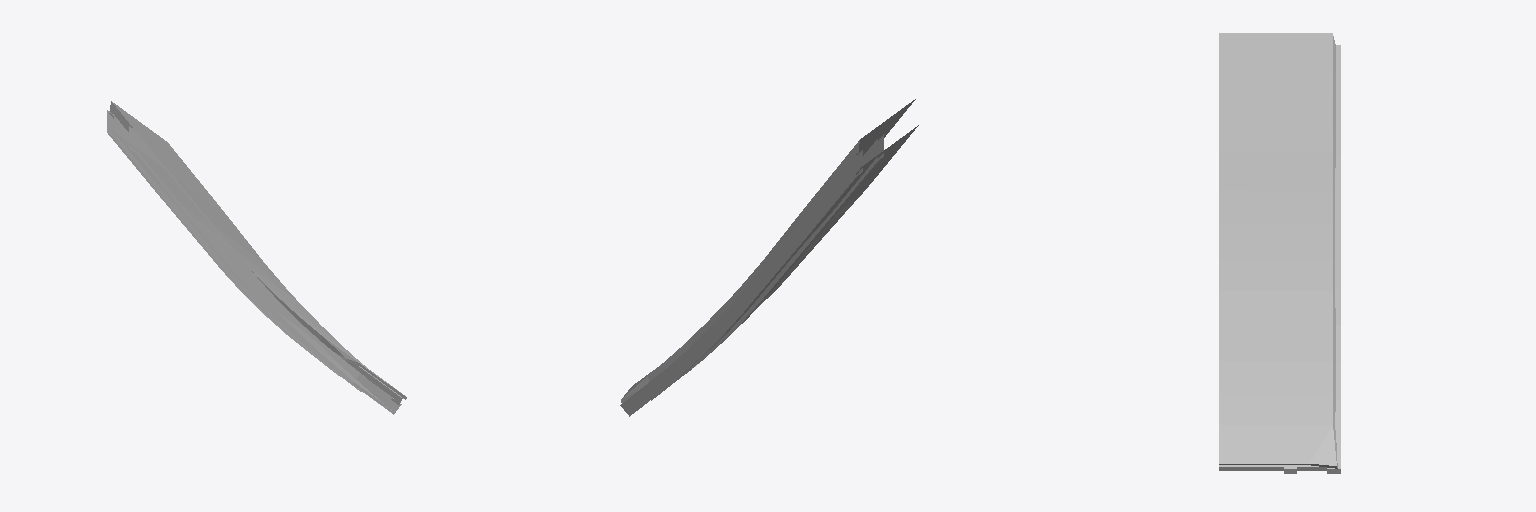
Rendered from Roof_Modular_FlatTiles_8_R_Half.obj.
3 views of the same model, side by side, from view 1: azimuth 30°, elevation 25°; view 2: azimuth 150°, elevation 25°; view 3: azimuth 270°, elevation 25° (orthographic).
Parts seen in each view (by area): view 1: Roof_Modular_FlatTiles_8_R_Half; view 2: Roof_Modular_FlatTiles_8_R_Half; view 3: Roof_Modular_FlatTiles_8_R_Half.
Boxes of the visible parts, x1=… form: Roof_Modular_FlatTiles_8_R_Half: x1=107, y1=101, x2=406, y2=414; Roof_Modular_FlatTiles_8_R_Half: x1=620, y1=99, x2=918, y2=416; Roof_Modular_FlatTiles_8_R_Half: x1=1219, y1=33, x2=1340, y2=473.
Size of the model in its own units: 5.03 by 6.54 by 2.18.